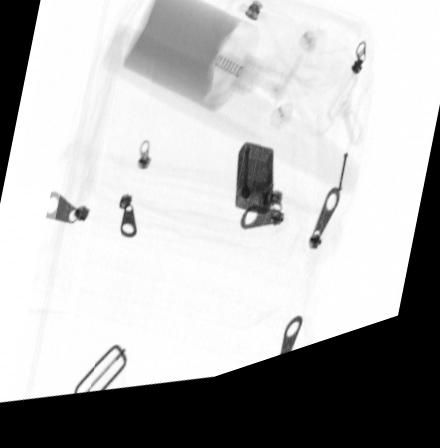Lighter: (233, 156, 273, 230)
